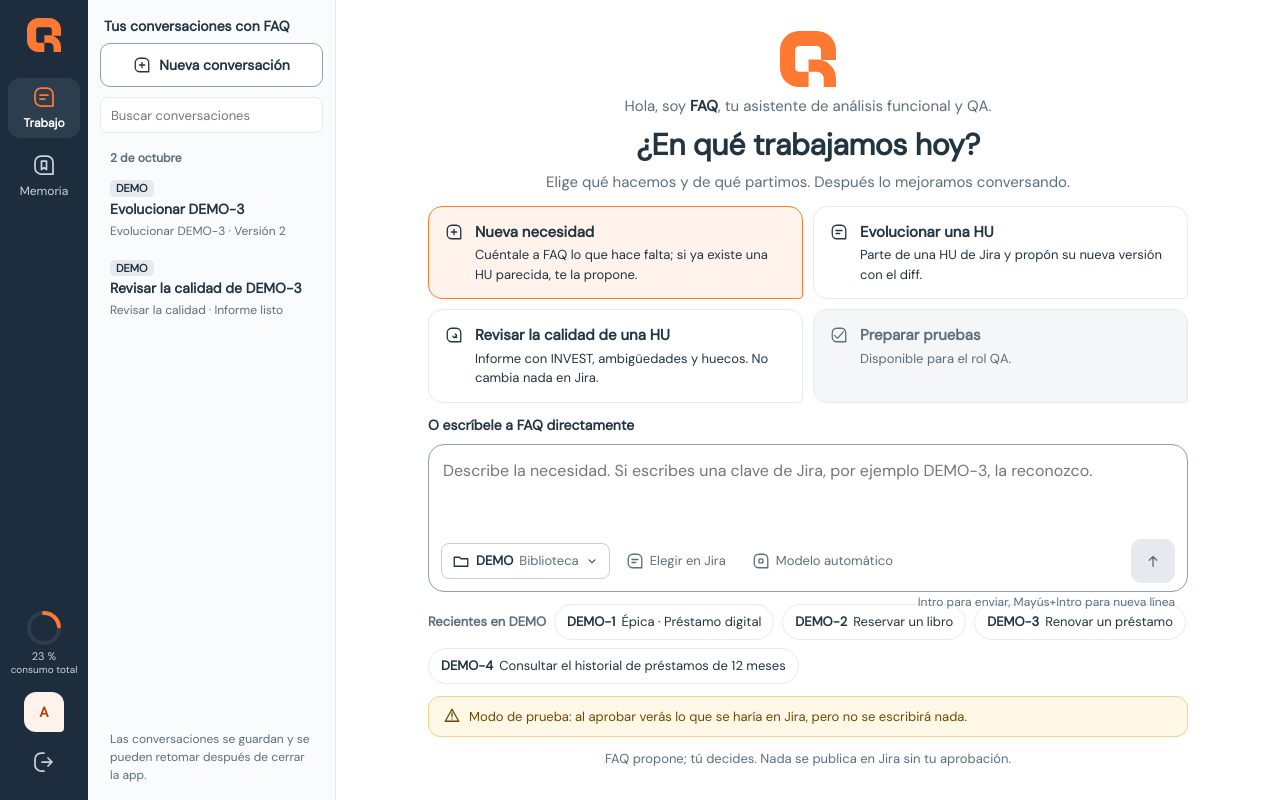
Test: Origen y fuentes · línea de capacidades (ronda 8) › sale en la primera propuesta si fue una búsqueda por texto
The width and height of the screenshot is (1280, 800).
Expected: the button with aria-label "Proyecto de Jira: DEMO" is shown, 441,543 -> 610,579
Type "Renovar un préstamo desde la app" into the text box at x=808, y=495, box 441,457 -> 1175,533
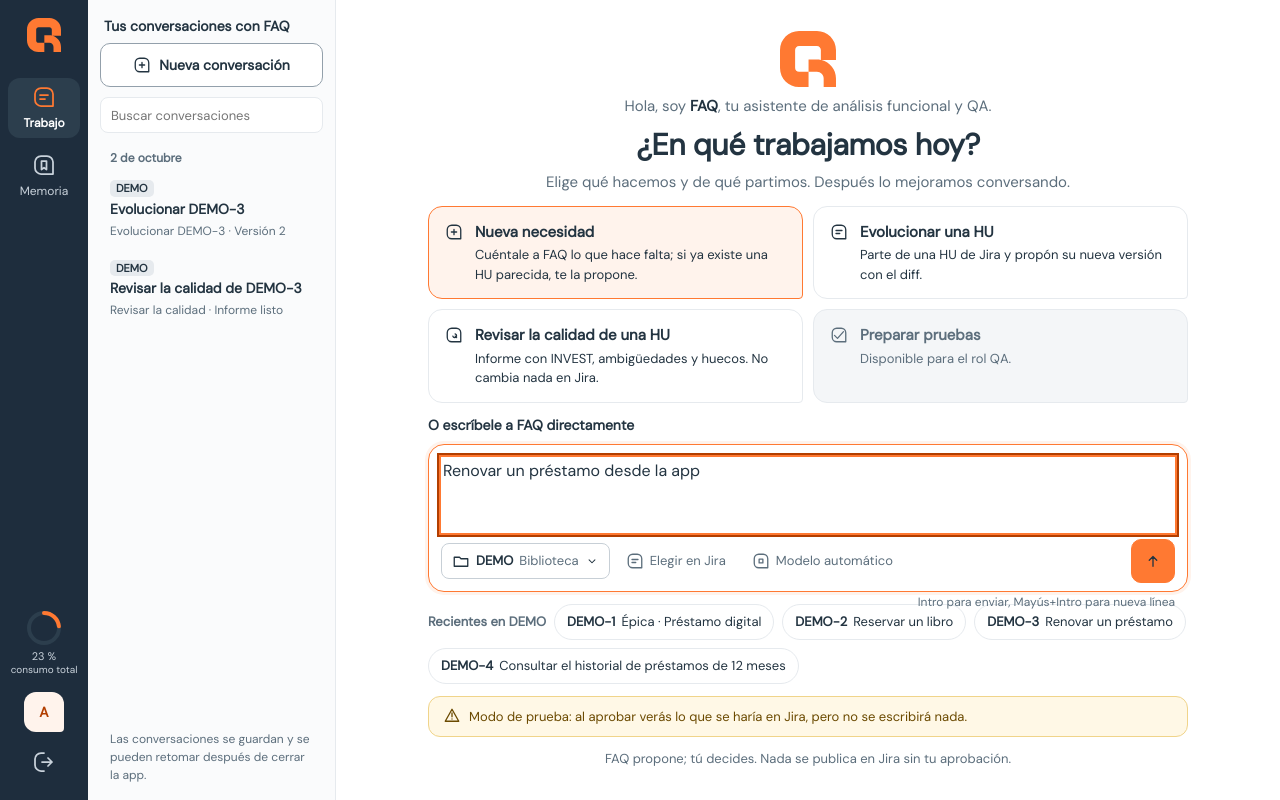
Click the button named "Continuar" at x=1153, y=561, box 1131,539 -> 1175,583
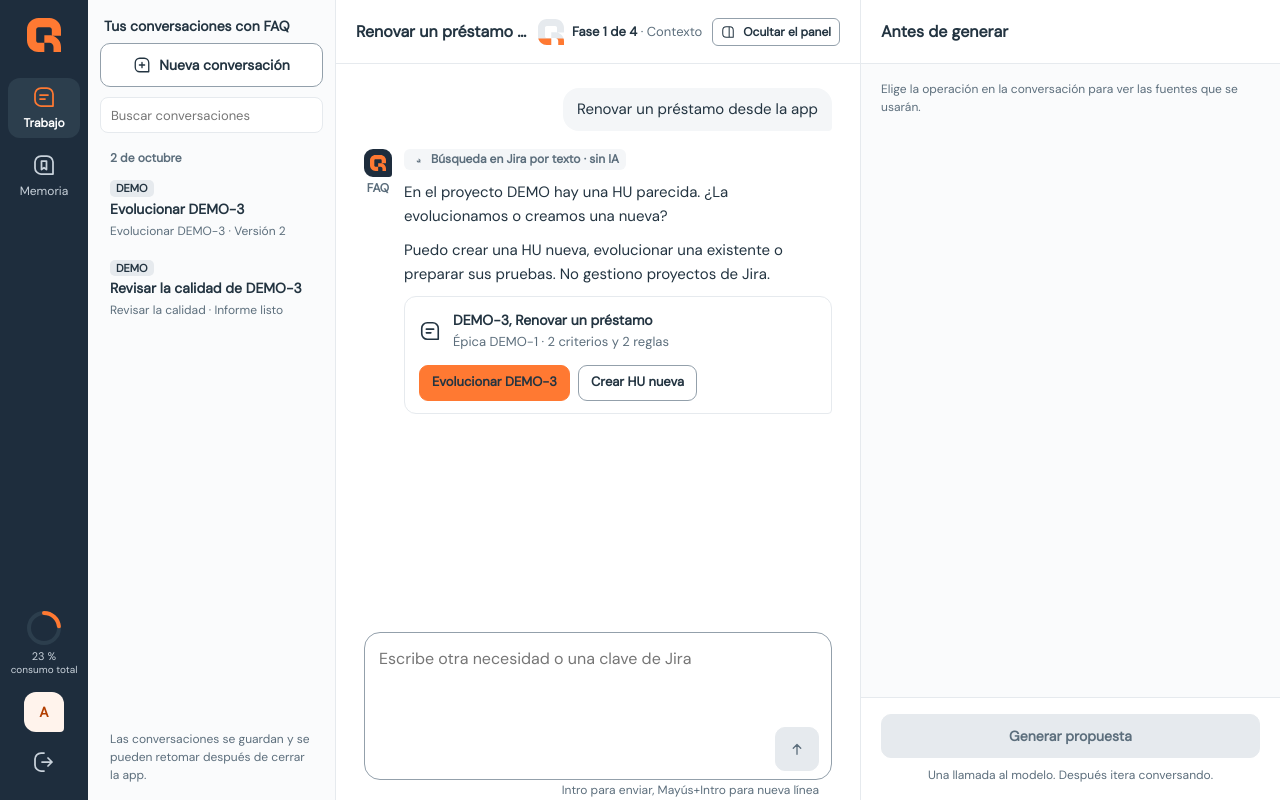
Now the element named "Conversación" is shown, box 364,88 -> 832,414
Now the text "Búsqueda en Jira por texto · sin IA" is shown, box 404,149 -> 626,170
Now the text "Puedo crear una HU nueva, evolucionar una existente o preparar sus pruebas. No gestiono proyectos de Jira." is shown, box 404,240 -> 783,284
